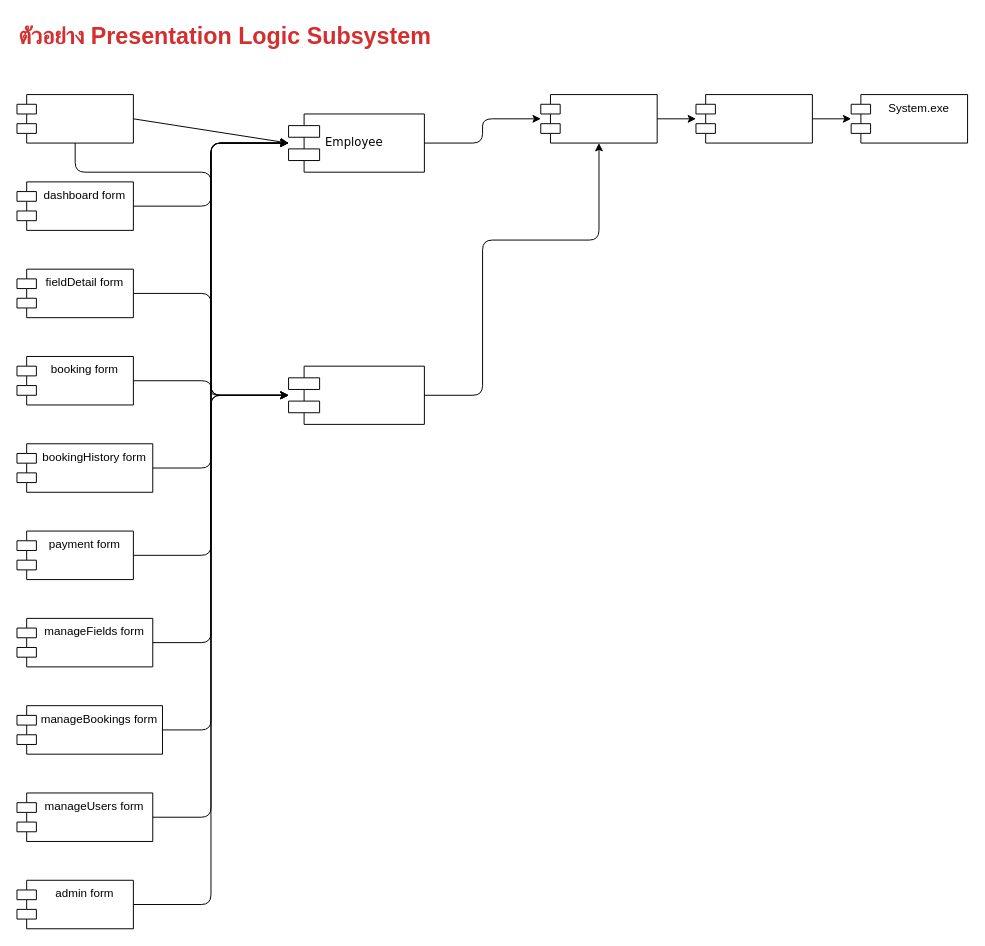
Some shapes in this 985 by 946 pixel diagram are drawn without their labels. The shapes that lost their labels are listed below. From the top down, each one's centre as x and y in pixels, then its label:
At [74,118]: "index form".
At [598,118]: "login form".
At [753,118]: "register form".
At [356,394]: "Customer".
